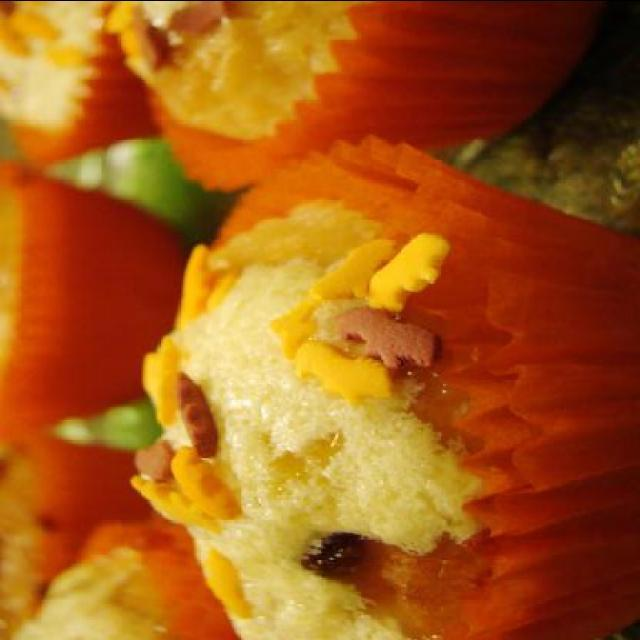Muffin: (0, 2, 638, 640)
